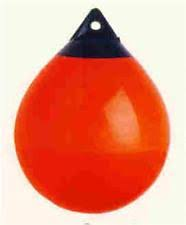buoy: (14, 54, 171, 214)
